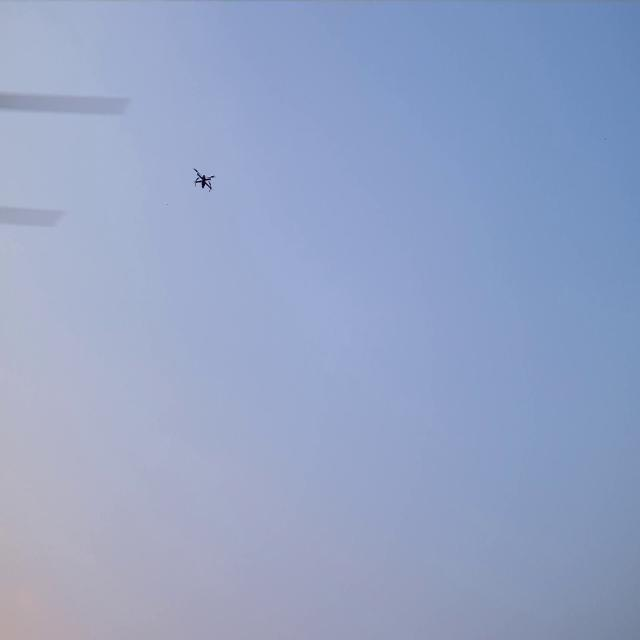UAV: (192, 166, 216, 193)
